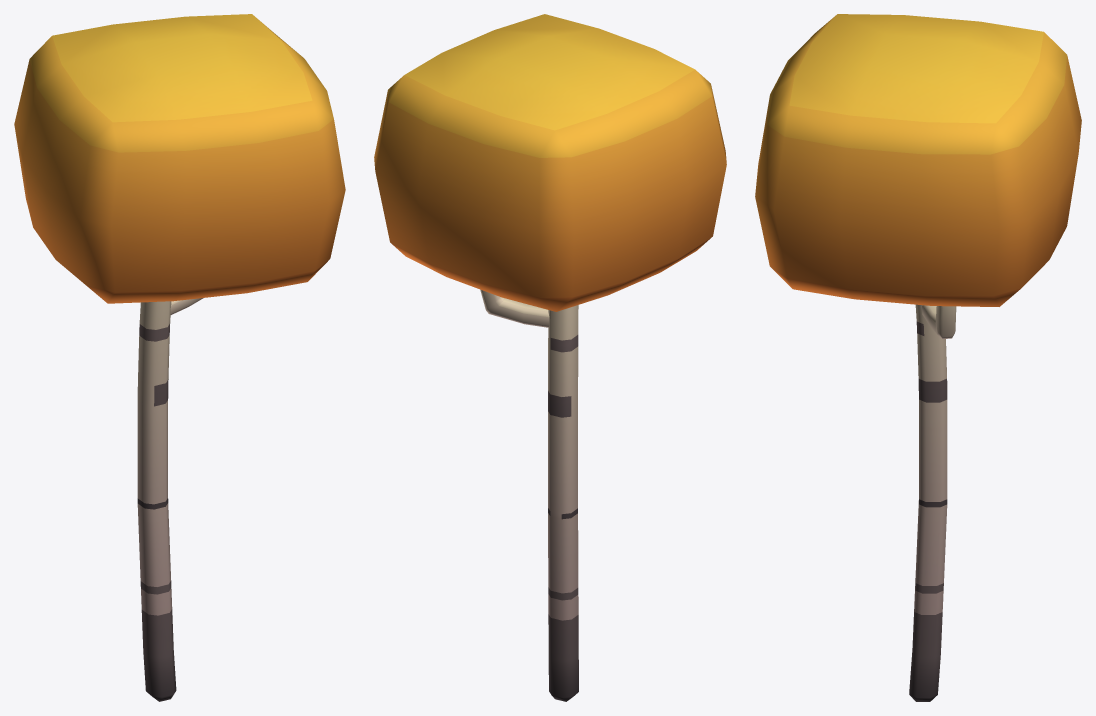
Rendered from birch_tree_col2_08.fbx.
3 views of the same model, side by side, from view 1: azimuth 30°, elevation 25°; view 2: azimuth 150°, elevation 25°; view 3: azimuth 270°, elevation 25° (orthographic). The views are drawn at different scales.
Parts seen in each view (by area): view 1: birch_tree_col2_08; view 2: birch_tree_col2_08; view 3: birch_tree_col2_08.
Part boxes in pixels (x1,y1,x2,y2): birch_tree_col2_08: (14, 14, 345, 701); birch_tree_col2_08: (374, 14, 726, 701); birch_tree_col2_08: (755, 14, 1081, 701).
Size of the model in its own units: 280 by 618 by 280.
1 material, 1 textured.
